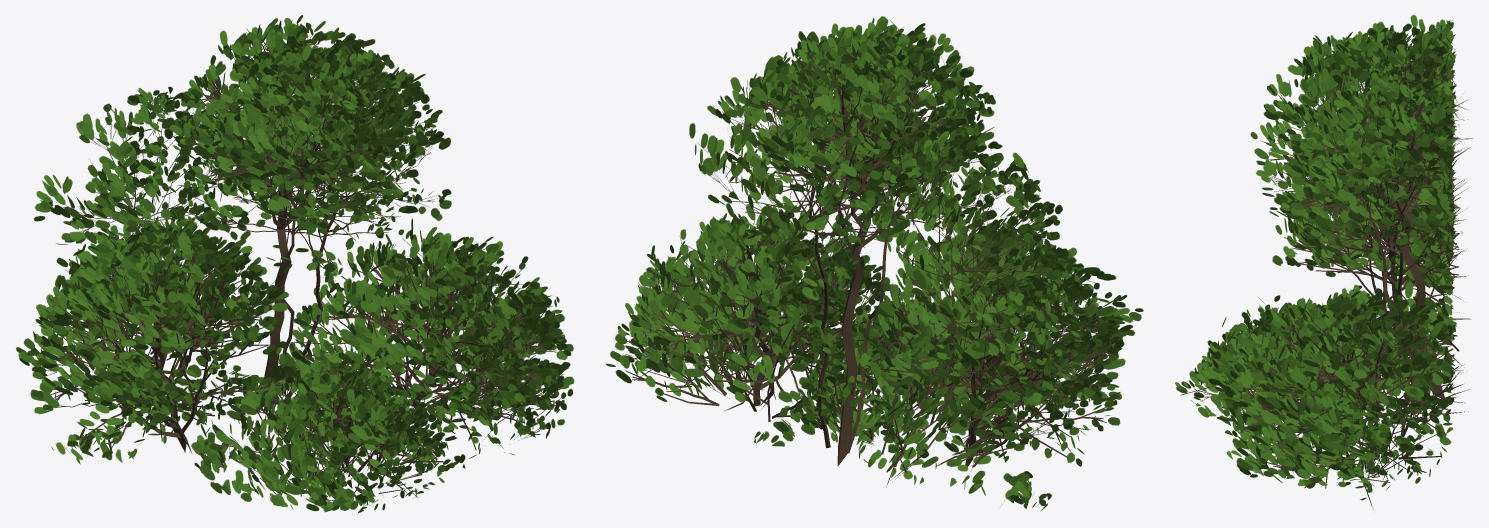
3 views of the same model, side by side, from view 1: azimuth 30°, elevation 25°; view 2: azimuth 150°, elevation 25°; view 3: azimuth 270°, elevation 25° (orthographic). The views are drawn at different scales.
Visible parts, largest first — view 1: oak 01.001_trunk_Mat.001_0.391; view 2: oak 01.001_trunk_Mat.001_0.391; view 3: oak 01.001_trunk_Mat.001_0.391.
Boxes of the visible parts, x1,y1,x2,y2 form: oak 01.001_trunk_Mat.001_0.391: (16, 15, 574, 513); oak 01.001_trunk_Mat.001_0.391: (605, 16, 1143, 511); oak 01.001_trunk_Mat.001_0.391: (1175, 14, 1472, 508).
Bounding box in the file's own units: 4.91 × 3.96 × 2.78.
Materials: 2 (1 with a texture image).
